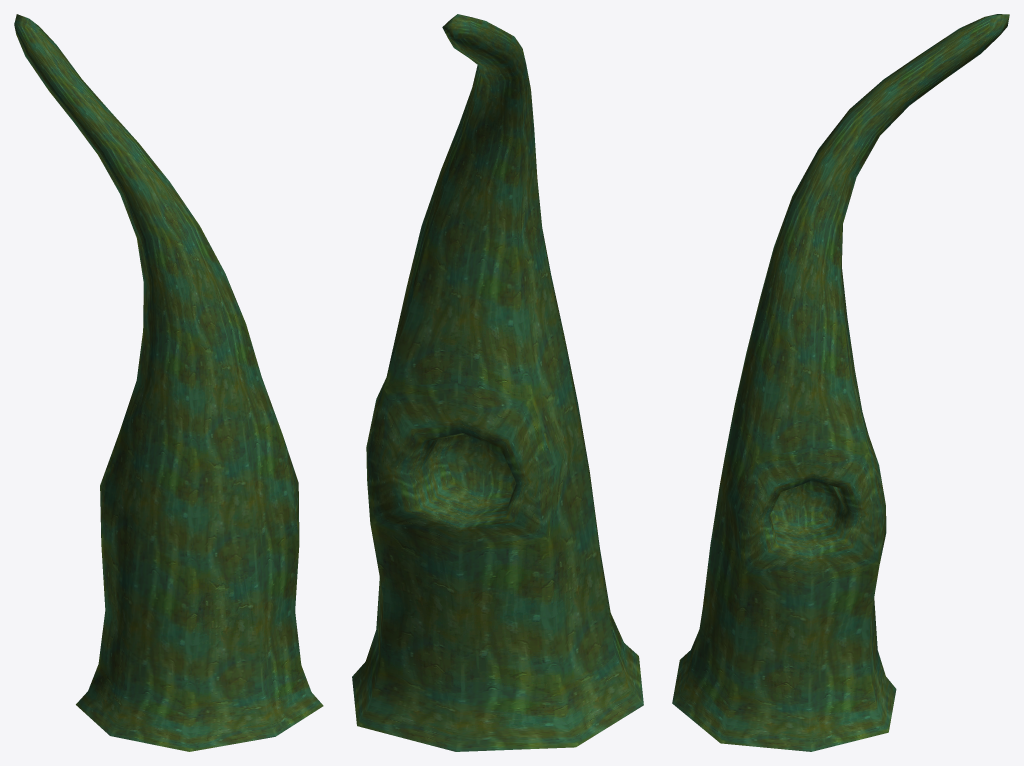
Rendered from MIRKWOOD_MIRK_PLAYSURFACE206.fbx.
3 views of the same model, side by side, from view 1: azimuth 30°, elevation 25°; view 2: azimuth 150°, elevation 25°; view 3: azimuth 270°, elevation 25° (orthographic). The views are drawn at different scales.
Parts seen in each view (by area): view 1: MIRKWOOD_MIRK_PLAYSURFACE206; view 2: MIRKWOOD_MIRK_PLAYSURFACE206; view 3: MIRKWOOD_MIRK_PLAYSURFACE206.
Part boxes in pixels (x1,y1,x2,y2): MIRKWOOD_MIRK_PLAYSURFACE206: (14,14,323,751); MIRKWOOD_MIRK_PLAYSURFACE206: (352,14,643,751); MIRKWOOD_MIRK_PLAYSURFACE206: (672,14,1009,751).
Bounding box in the file's own units: 71998 × 212389 × 99726.
Materials: 1 (1 with a texture image).
